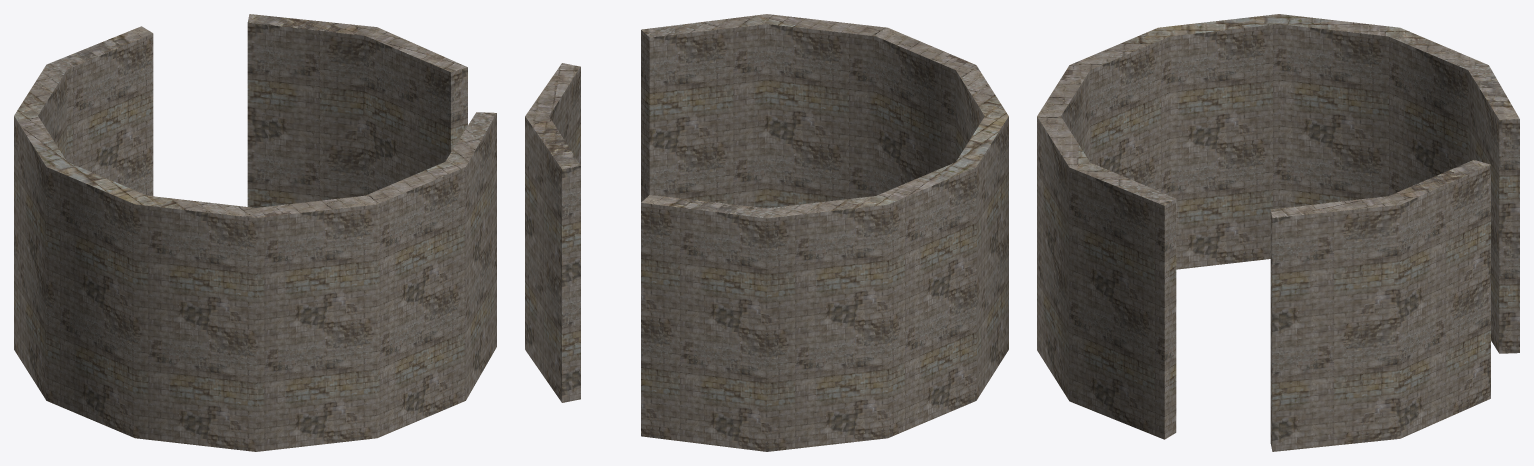
Rendered from wall3.fbx.
The picture shows the model from 3 angles, left to right: view 1: azimuth 30°, elevation 25°; view 2: azimuth 150°, elevation 25°; view 3: azimuth 270°, elevation 25°; orthographic projection.
Visible parts, largest first — view 1: LV_Nigraturis_Floor02A_SM_HSH; view 2: LV_Nigraturis_Floor02A_SM_HSH; view 3: LV_Nigraturis_Floor02A_SM_HSH.
Boxes of the visible parts, x1,y1,x2,y2 form: LV_Nigraturis_Floor02A_SM_HSH: (14,14,496,451); LV_Nigraturis_Floor02A_SM_HSH: (525,14,1008,451); LV_Nigraturis_Floor02A_SM_HSH: (1037,14,1519,451).
Bounding box in the file's own units: 12.2 × 6.52 × 12.2.
